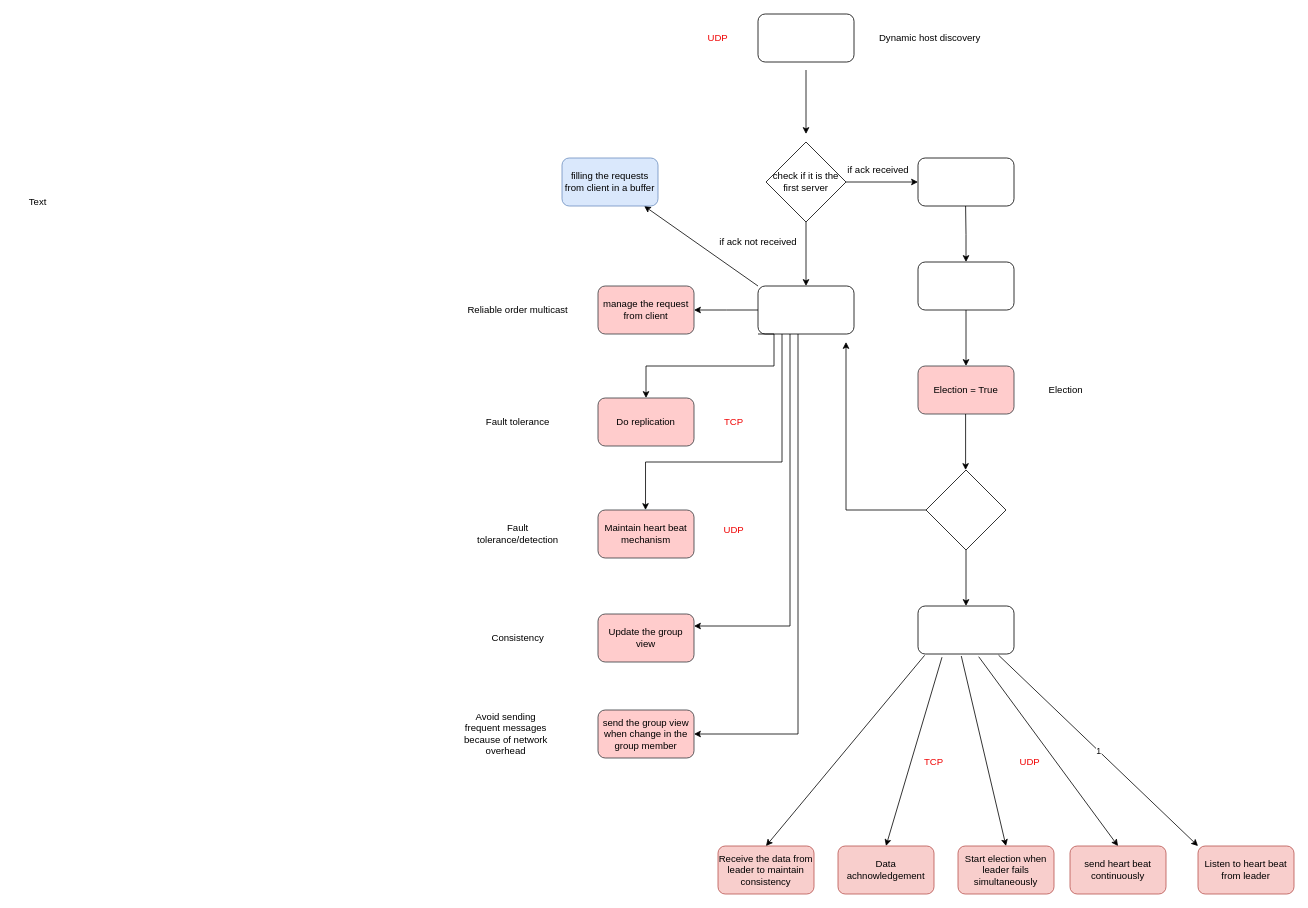
The diagram is 1308 pixels wide and 908 high, and some of its shapes have lost their labels. The shapes that lost their labels are listed below. From the top down, each one's centre as x and y in pixels, then its label:
pixel 805 37: Broadcast server message to join server group
pixel 965 181: joins the group
pixel 965 285: should receive group view update from the leader
pixel 805 309: Leader = True
pixel 965 509: is the incoming node a leader
pixel 965 629: Leader = False
